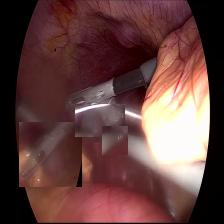Grasper: (19, 122, 82, 187), (64, 81, 122, 109)
Irrigator: (102, 126, 128, 155)
Specimen Bag: (75, 104, 125, 137)
